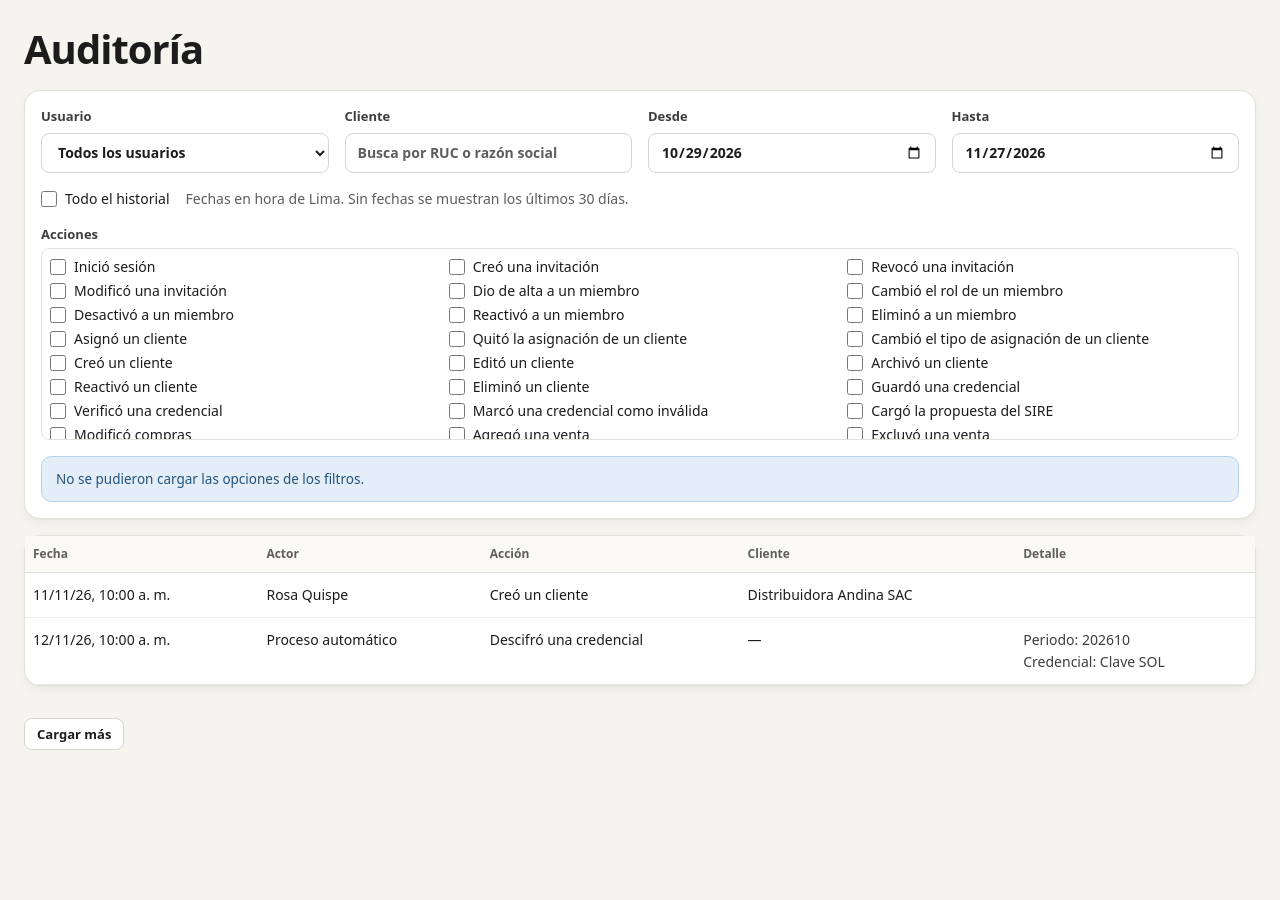
Test: configuracion/auditoria › feliz: tabla con actor con nombre, acción en español y «Cargar más» con el cursor
Expected: the text "Rosa Quispe" is shown, [266,585,348,604]
Expected: the text "Creó un cliente" is shown, [482,573,740,618]
Click the button "Cargar más". click: x=74, y=734
box: [24,718,124,750]
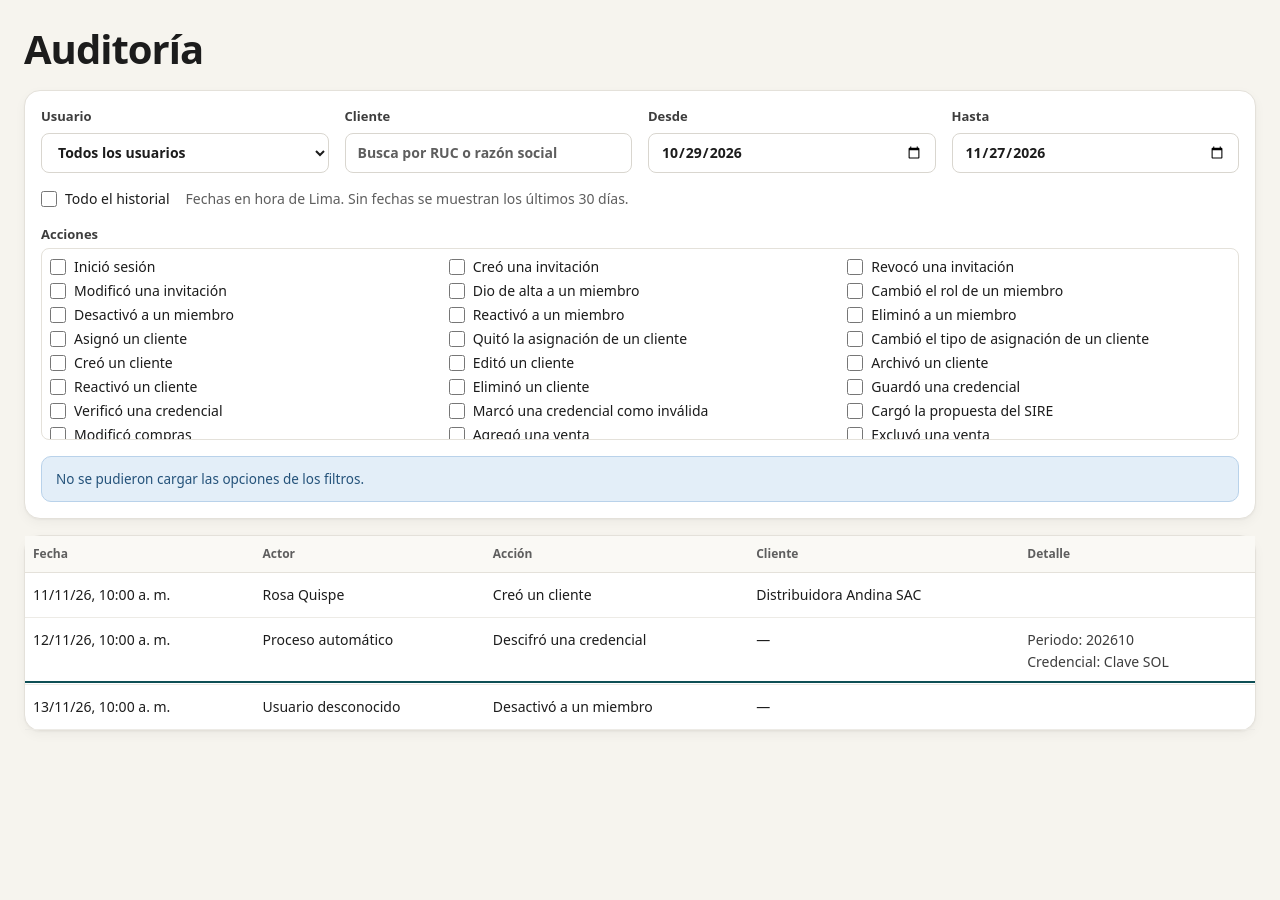
Expected: the text "Desactivó a un miembro" is shown, [485,685,748,730]
Expected: the text "Usuario desconocido" is shown, [262,697,400,716]
Expected: the button "Cargar más" is gone
